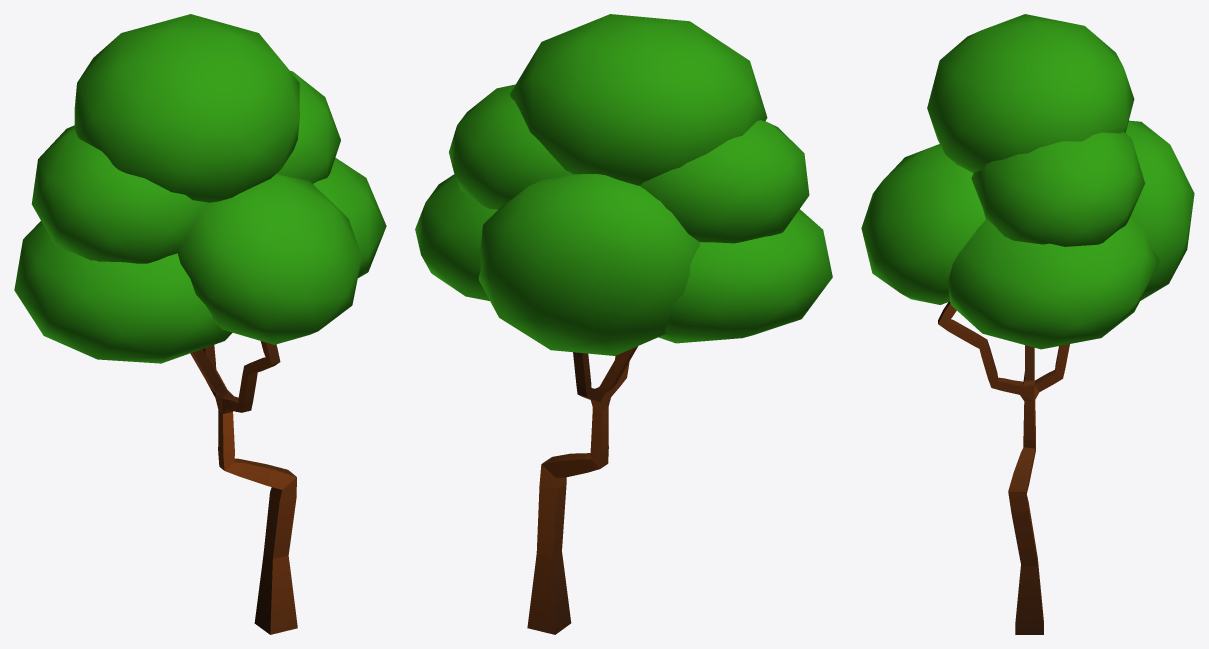
The model's file is Tree 2.glb.
The picture shows the model from 3 angles, left to right: view 1: azimuth 30°, elevation 25°; view 2: azimuth 150°, elevation 25°; view 3: azimuth 270°, elevation 25°; orthographic projection. The views are drawn at different scales.
Visible parts, largest first — view 1: Plane.001; view 2: Plane.001; view 3: Plane.001.
Boxes of the visible parts, <box> form: Plane.001: <box>14,14,386,634</box>; Plane.001: <box>415,14,832,634</box>; Plane.001: <box>861,14,1194,634</box>.
Size of the model in its own units: 3.09 by 5.09 by 2.74.
1 material, 1 textured.
